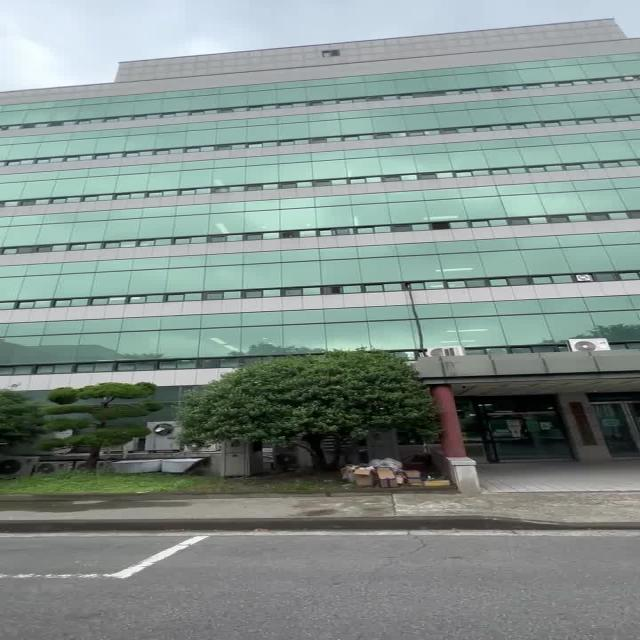building: (53, 39, 640, 344)
